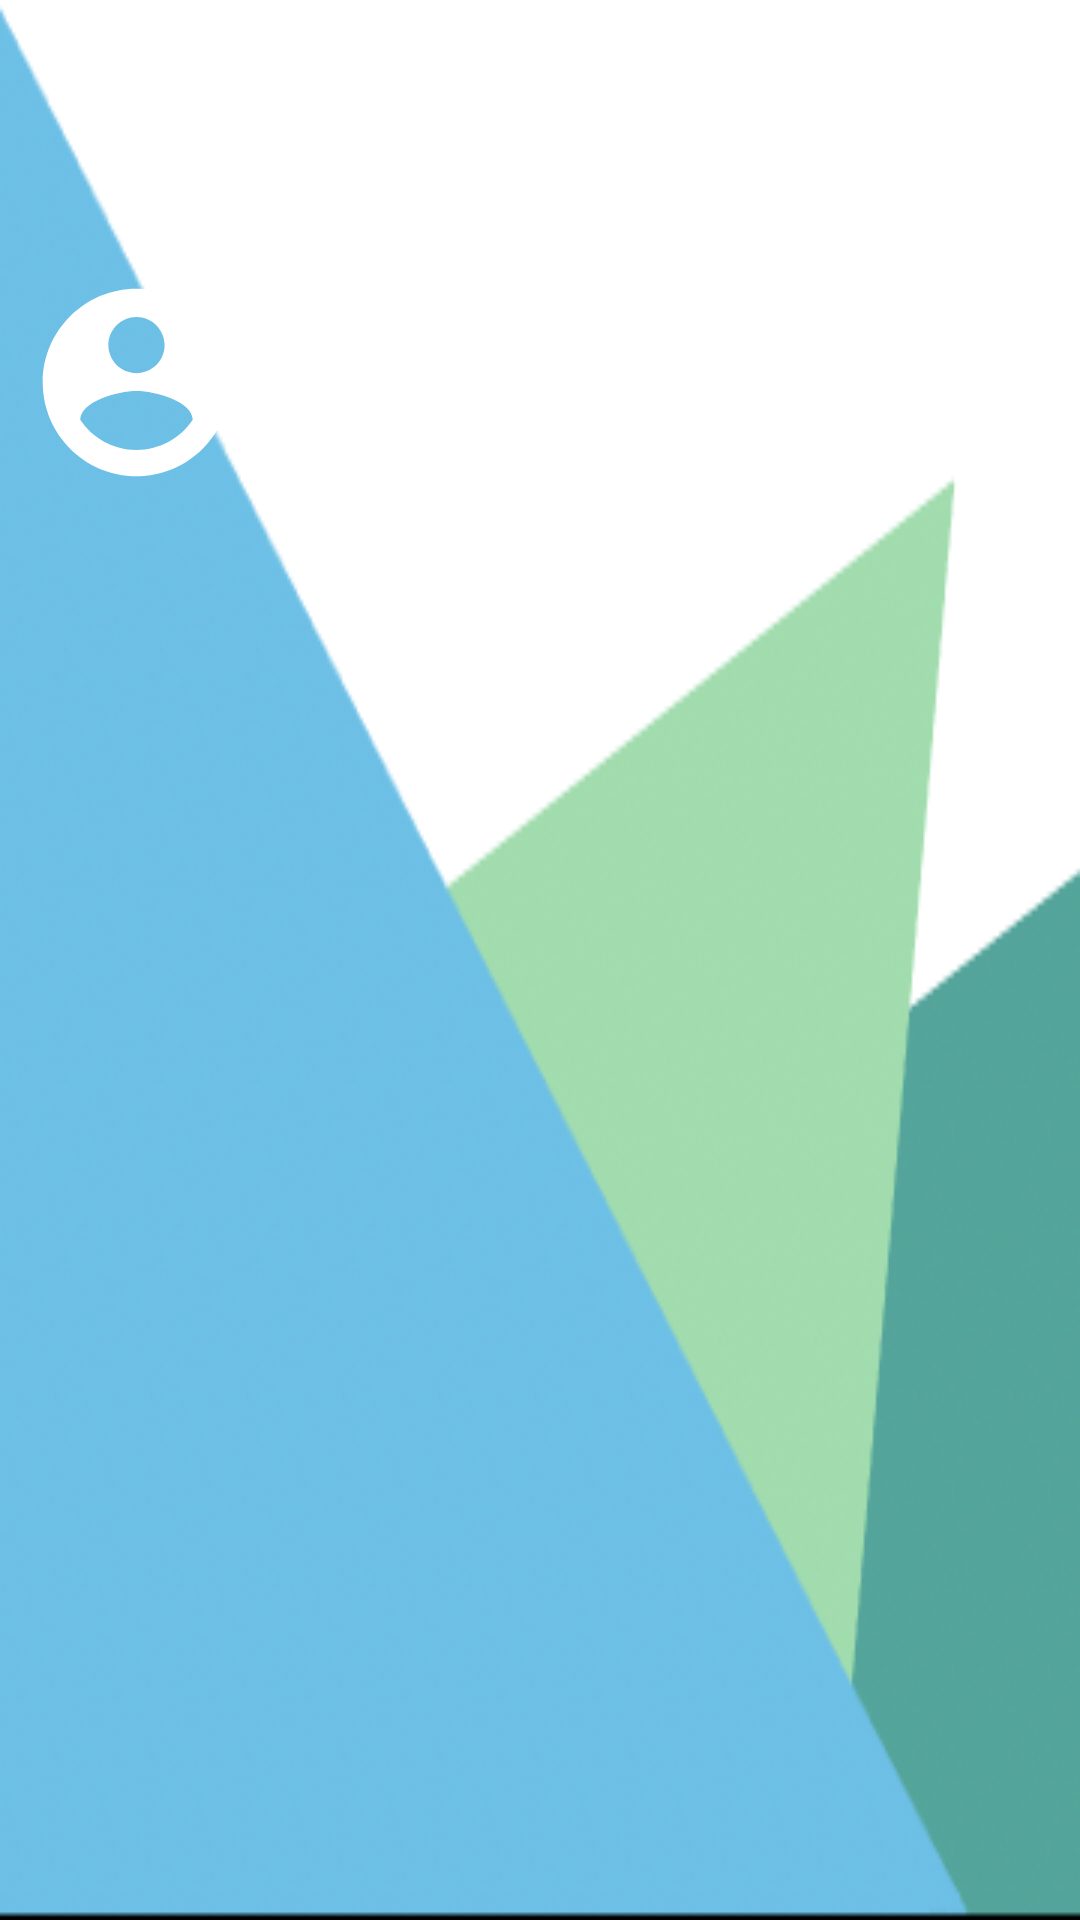

Point at icon controls on the screen. Image size 1080 x 1920, points as [x,y].
account circle: [145,382]
